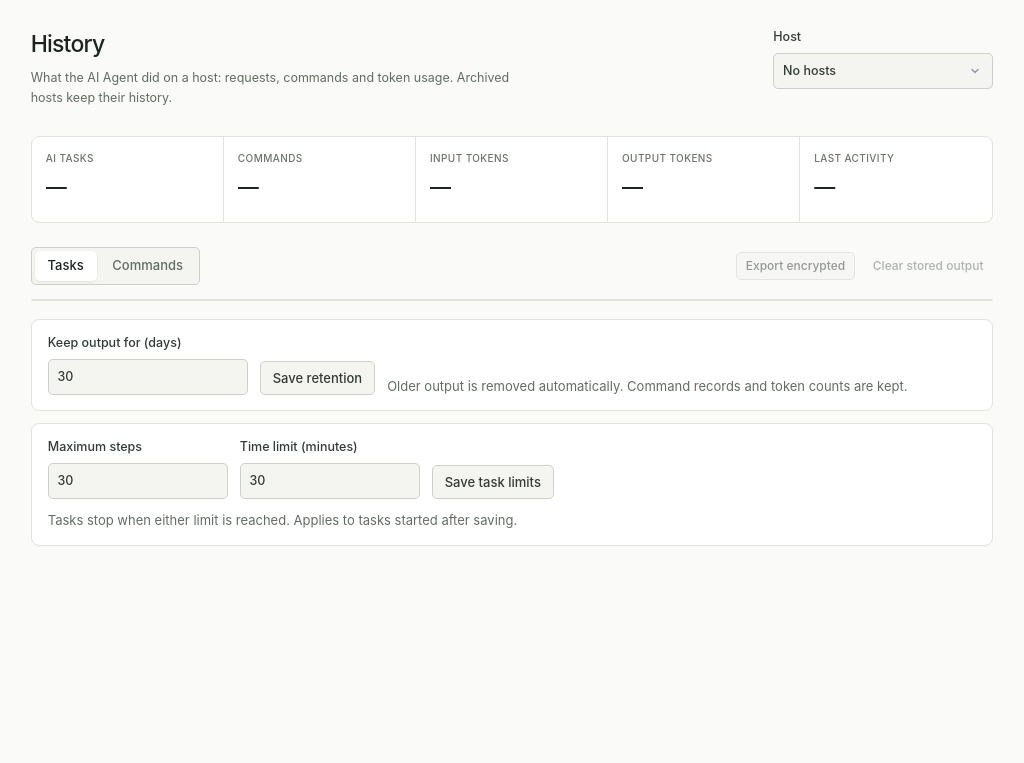
Test: HostHistoryTab › shows the timeline of the task an execution belongs to
This screenshot has width=1024, height=763.
Click the button "Commands" at [148, 266], box x1=100 y1=251 x2=196 y2=281
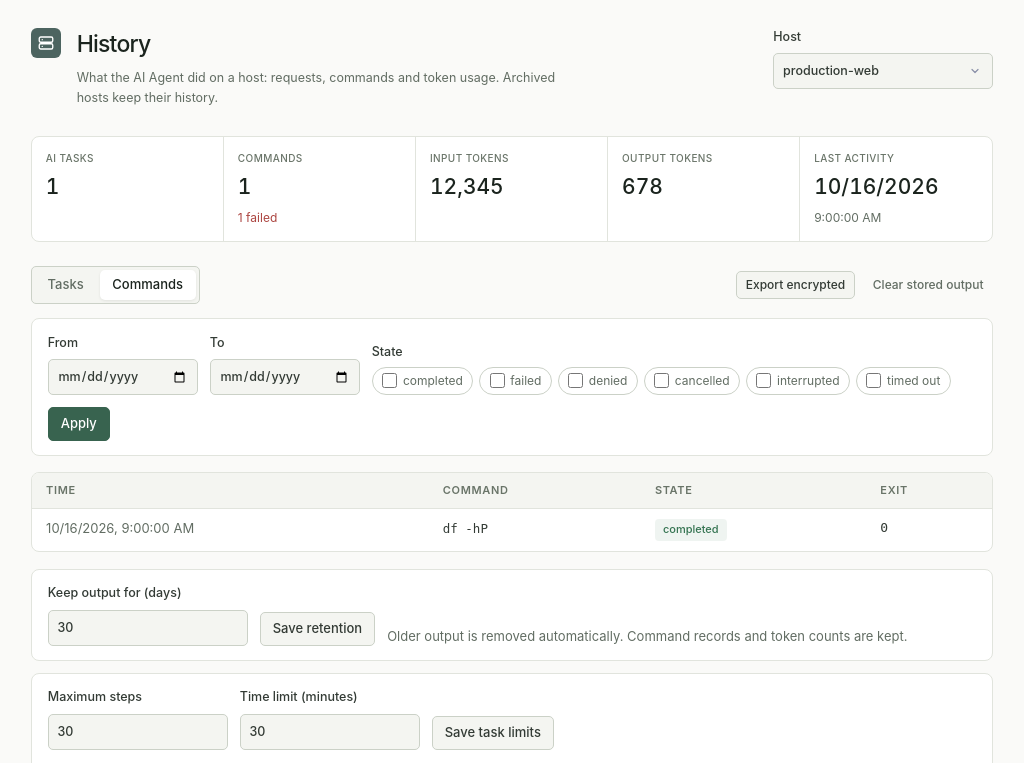
Click the text "df -hP" at [465, 528], box x1=443 y1=521 x2=488 y2=536
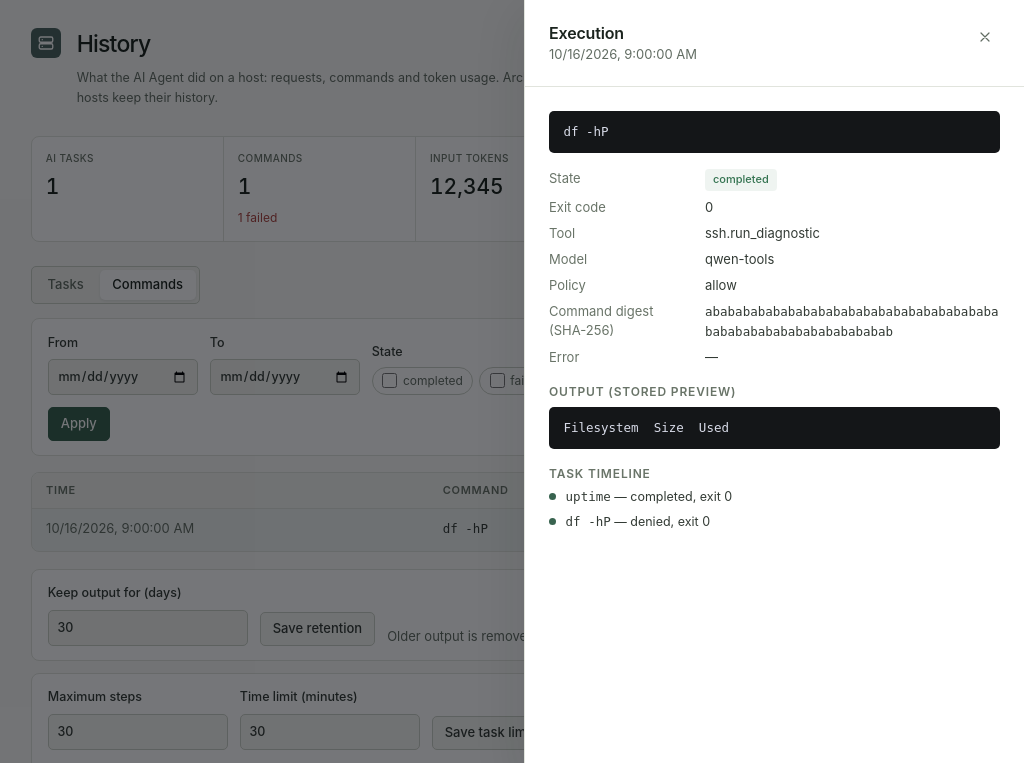
Check: the heading "Task timeline" is shown, box x1=549 y1=466 x2=651 y2=481
Check: the text "uptime" is shown, box x1=566 y1=489 x2=611 y2=504
